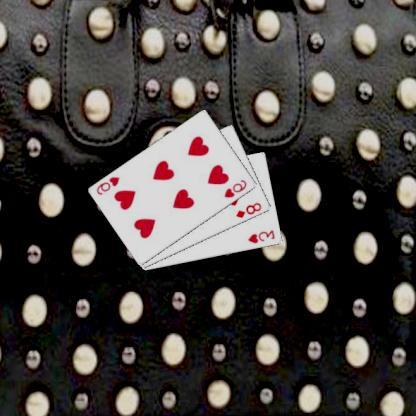3H: (247, 227, 278, 245)
6H: (96, 173, 124, 196), (223, 177, 250, 199)
8D: (235, 200, 265, 219)
